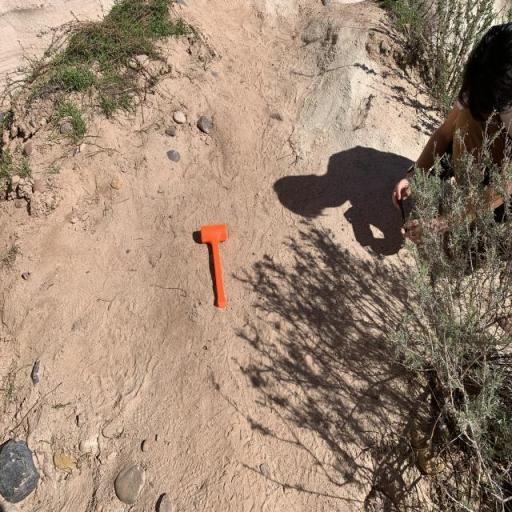mallet: (199, 218, 234, 316)
